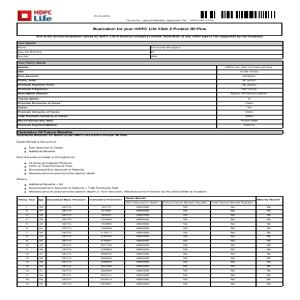image: (17, 6, 57, 22)
table: (16, 40, 284, 133), (17, 197, 283, 285)
text: (15, 178, 209, 194), (16, 155, 100, 176), (35, 34, 265, 39), (17, 139, 66, 154), (17, 134, 129, 137)
